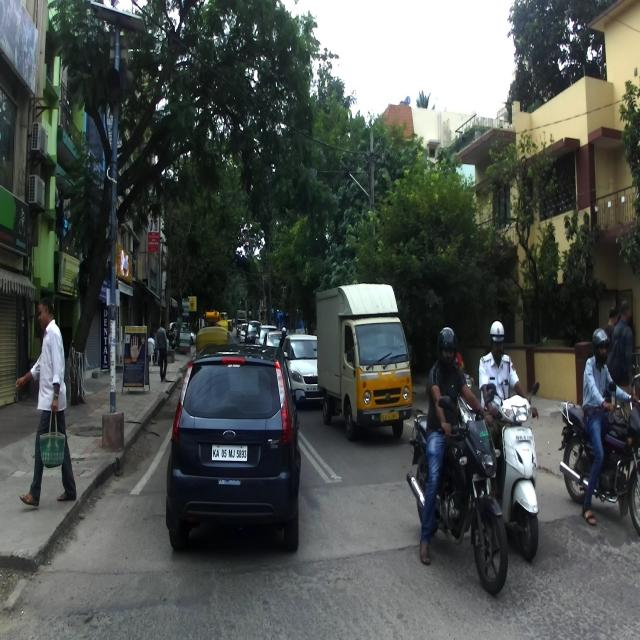Car_Ford: (165, 342, 305, 555)
motorcycle_Hero: (556, 381, 640, 535)
motorcycle_bajaj: (406, 388, 509, 596)
scooter: (480, 381, 541, 561)
truck: (315, 288, 412, 439)
